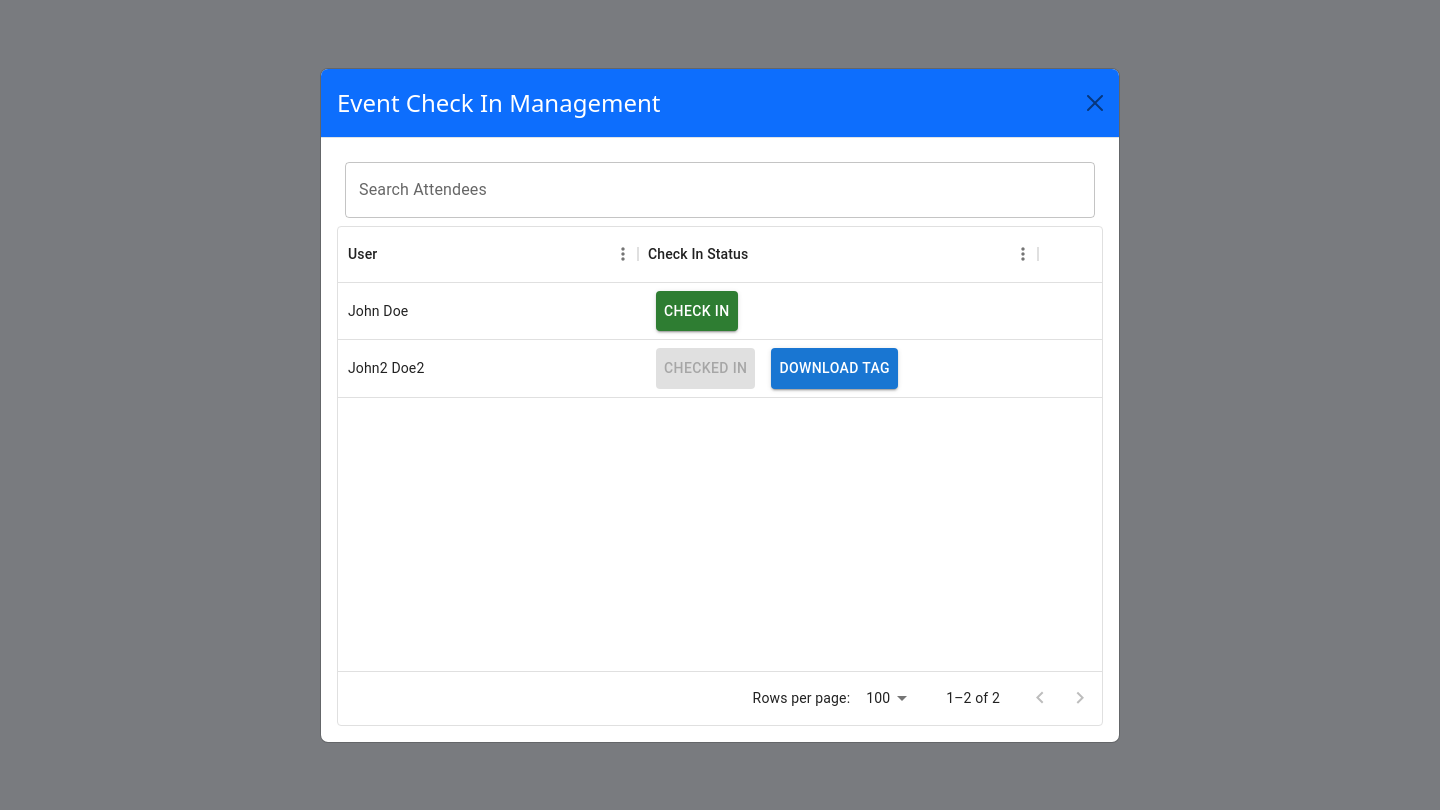
Testing Check In Attendees Modal › The modal should be rendered, and all the fetched users should be shown properly and user filtering should work
Expected: the text "Event Check In Management" is shown, [337,84,660,120]
Expected: the text "John Doe" is shown, [348,301,408,321]
# Tetst filtering of users
Type "John Doe" into the field labelled "Search Attendees" at (720, 190), box [345,162,1095,218]
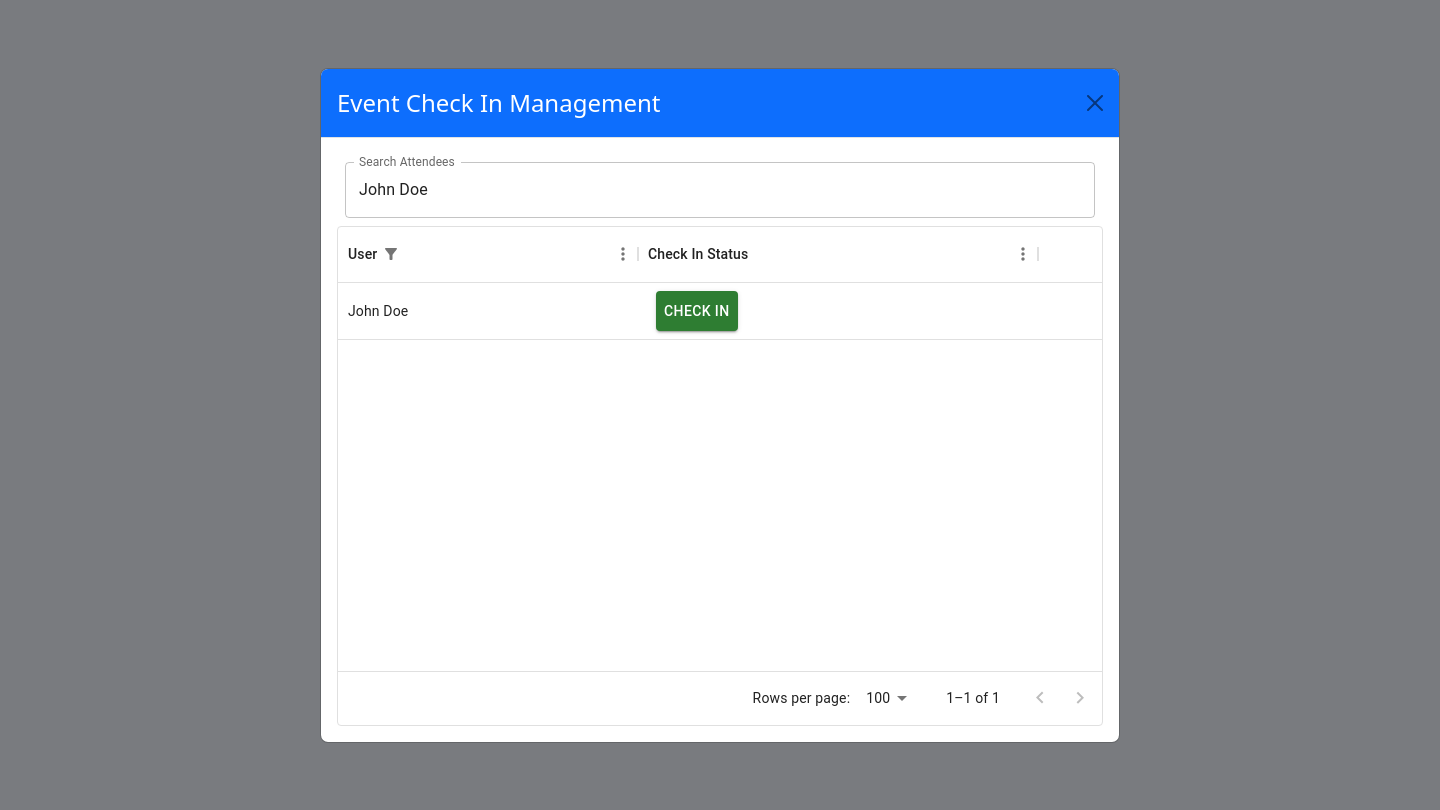
Expected: the text "John Doe" is shown, [348,301,408,321]
Expected: the text "John2 Doe2" is gone
